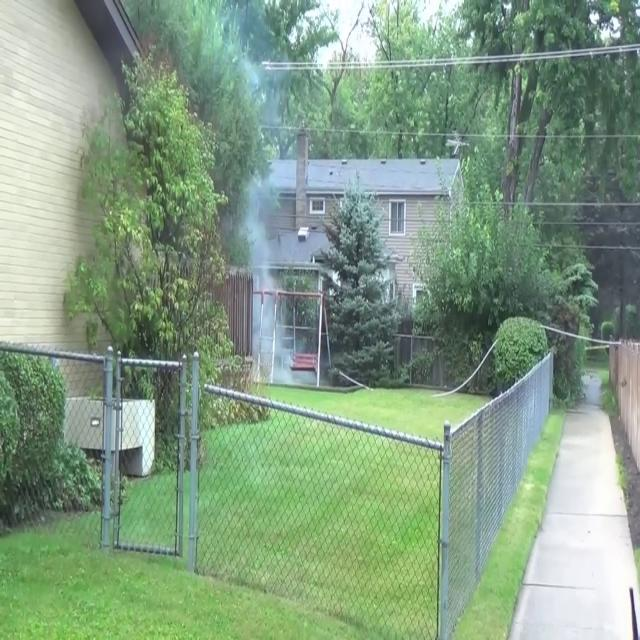Smoke: (236, 167, 288, 381)
